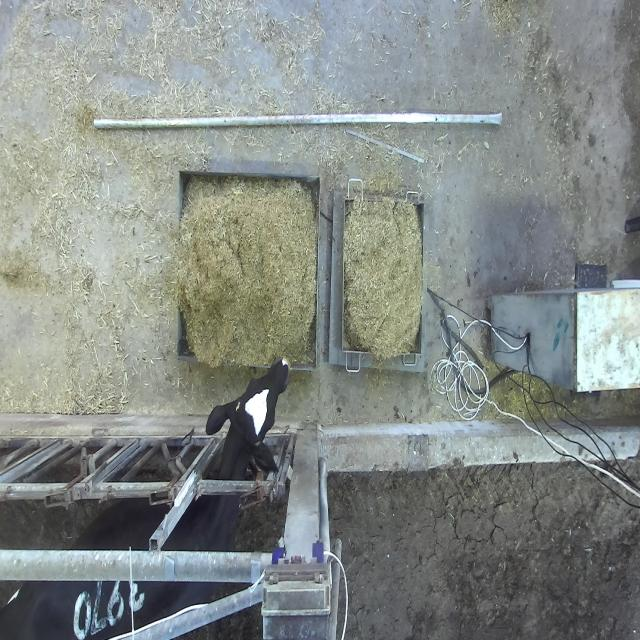cow: (205, 358, 292, 477)
